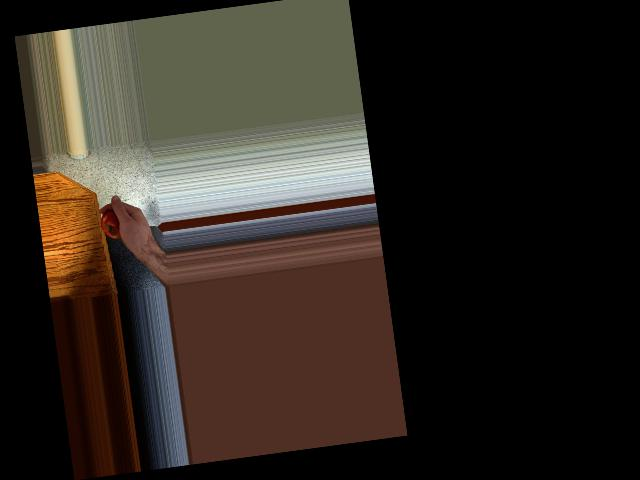apple: (96, 205, 128, 236)
